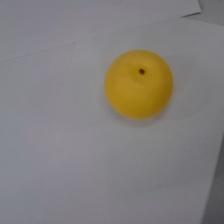yellow: (100, 46, 176, 123)
